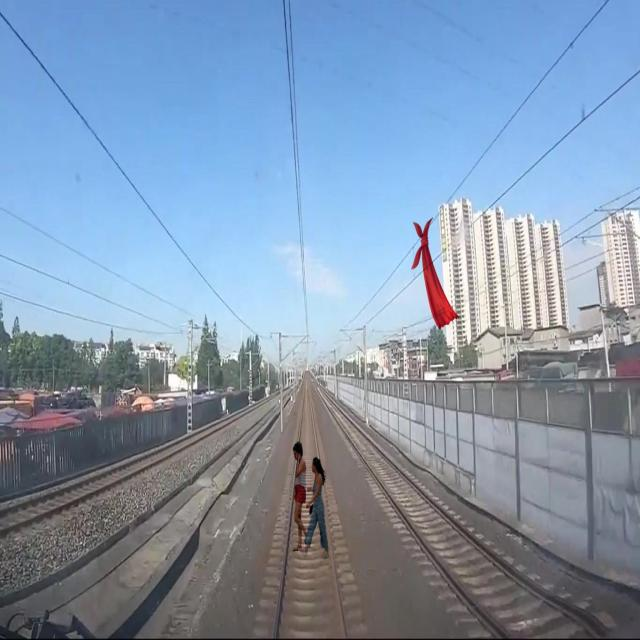floating object: (411, 214, 456, 330)
